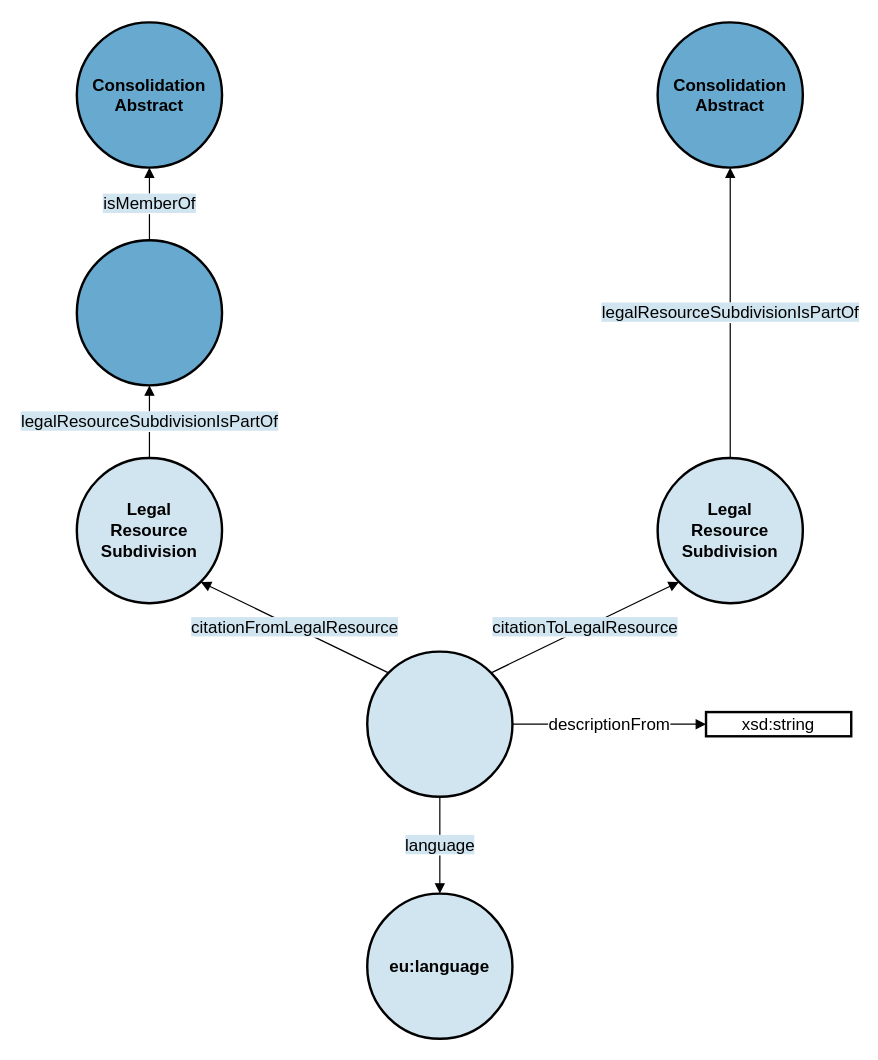
This 878x1060 diagram has some shape labels left out. The centre of each missing label's shape, as x and y in pixels:
"Citation" goes at point 439,723.
"Consolidation" goes at point 149,312.
